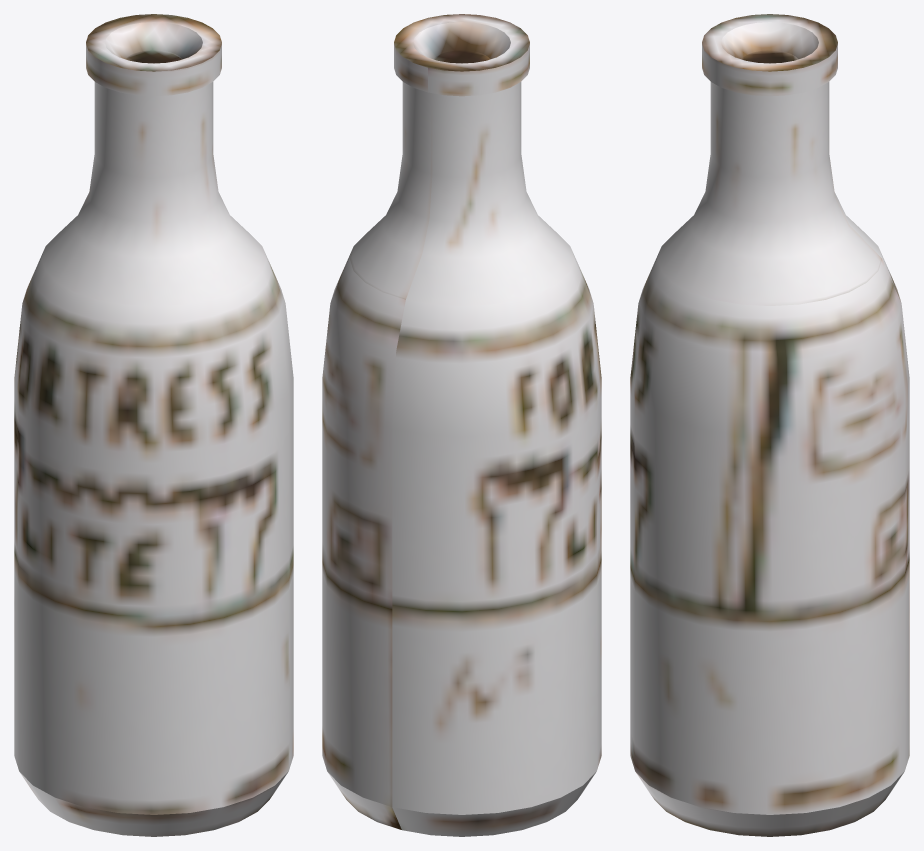
File: Beers.fbx
3 renders of one model, left to right at view 1: azimuth 30°, elevation 25°; view 2: azimuth 150°, elevation 25°; view 3: azimuth 270°, elevation 25°, orthographic.
Visible parts, largest first — view 1: Beer_Fort; view 2: Beer_Fort; view 3: Beer_Fort.
Part boxes in pixels (x1,y1,x2,y2): Beer_Fort: (14,14,293,836); Beer_Fort: (322,14,601,836); Beer_Fort: (630,14,909,836).
Size of the model in its own units: 11.19 by 32.86 by 11.19.
1 material, 1 textured.
